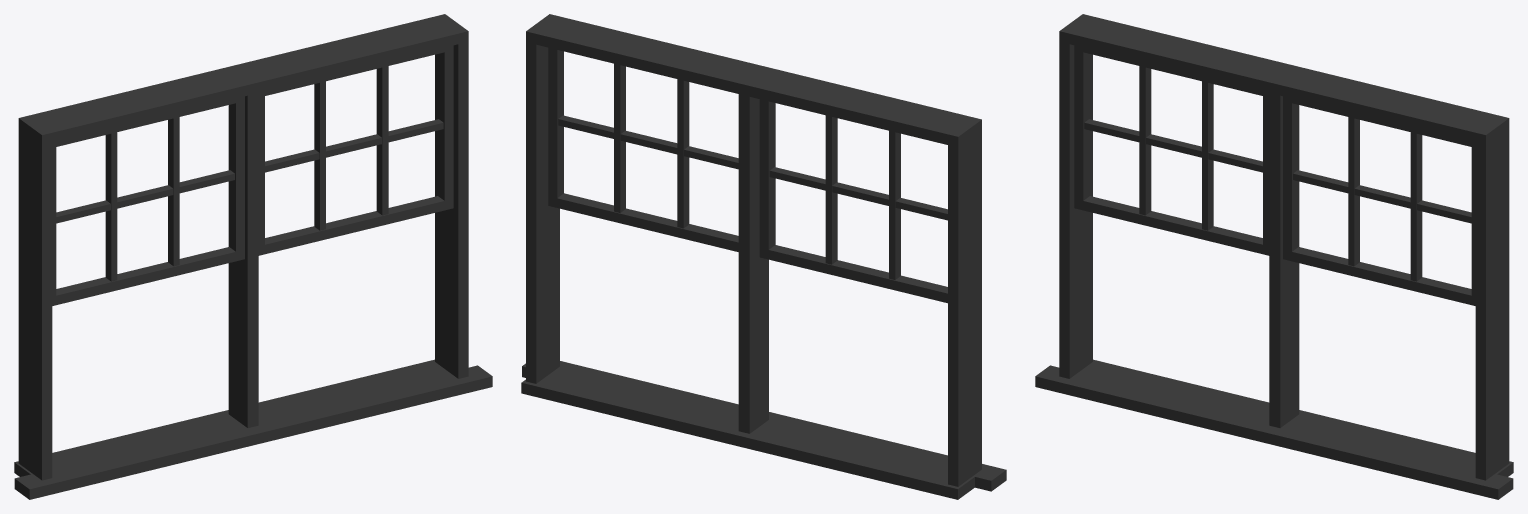
File: Window4_03.fbx
The picture shows the model from 3 angles, left to right: view 1: azimuth 30°, elevation 25°; view 2: azimuth 150°, elevation 25°; view 3: azimuth 330°, elevation 25°; orthographic projection.
Visible parts, largest first — view 1: Window4_03; view 2: Window4_03; view 3: Window4_03.
Part boxes in pixels (bbox=[...]): Window4_03: bbox=[14, 14, 492, 499]; Window4_03: bbox=[521, 14, 1006, 499]; Window4_03: bbox=[1035, 14, 1513, 499].
Bounding box in the file's own units: 228 × 168 × 27.
